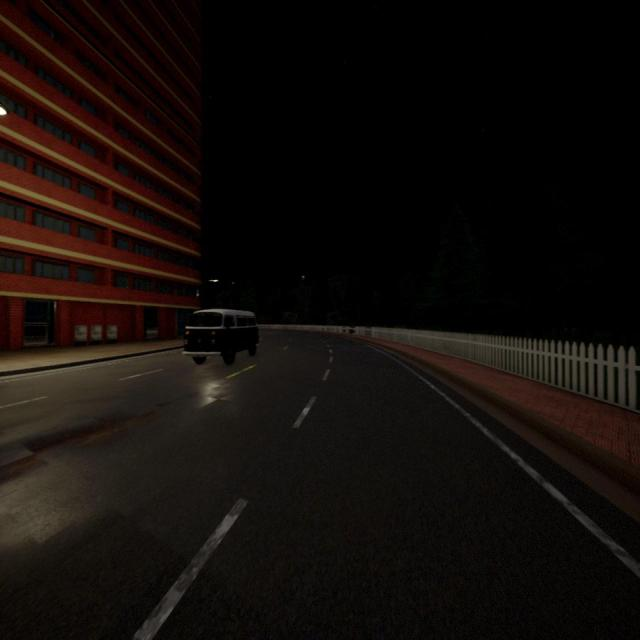Vehicle: (183, 309, 258, 364)
